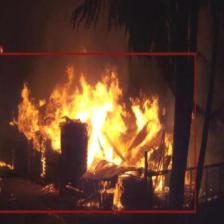fire: (0, 52, 195, 211)
